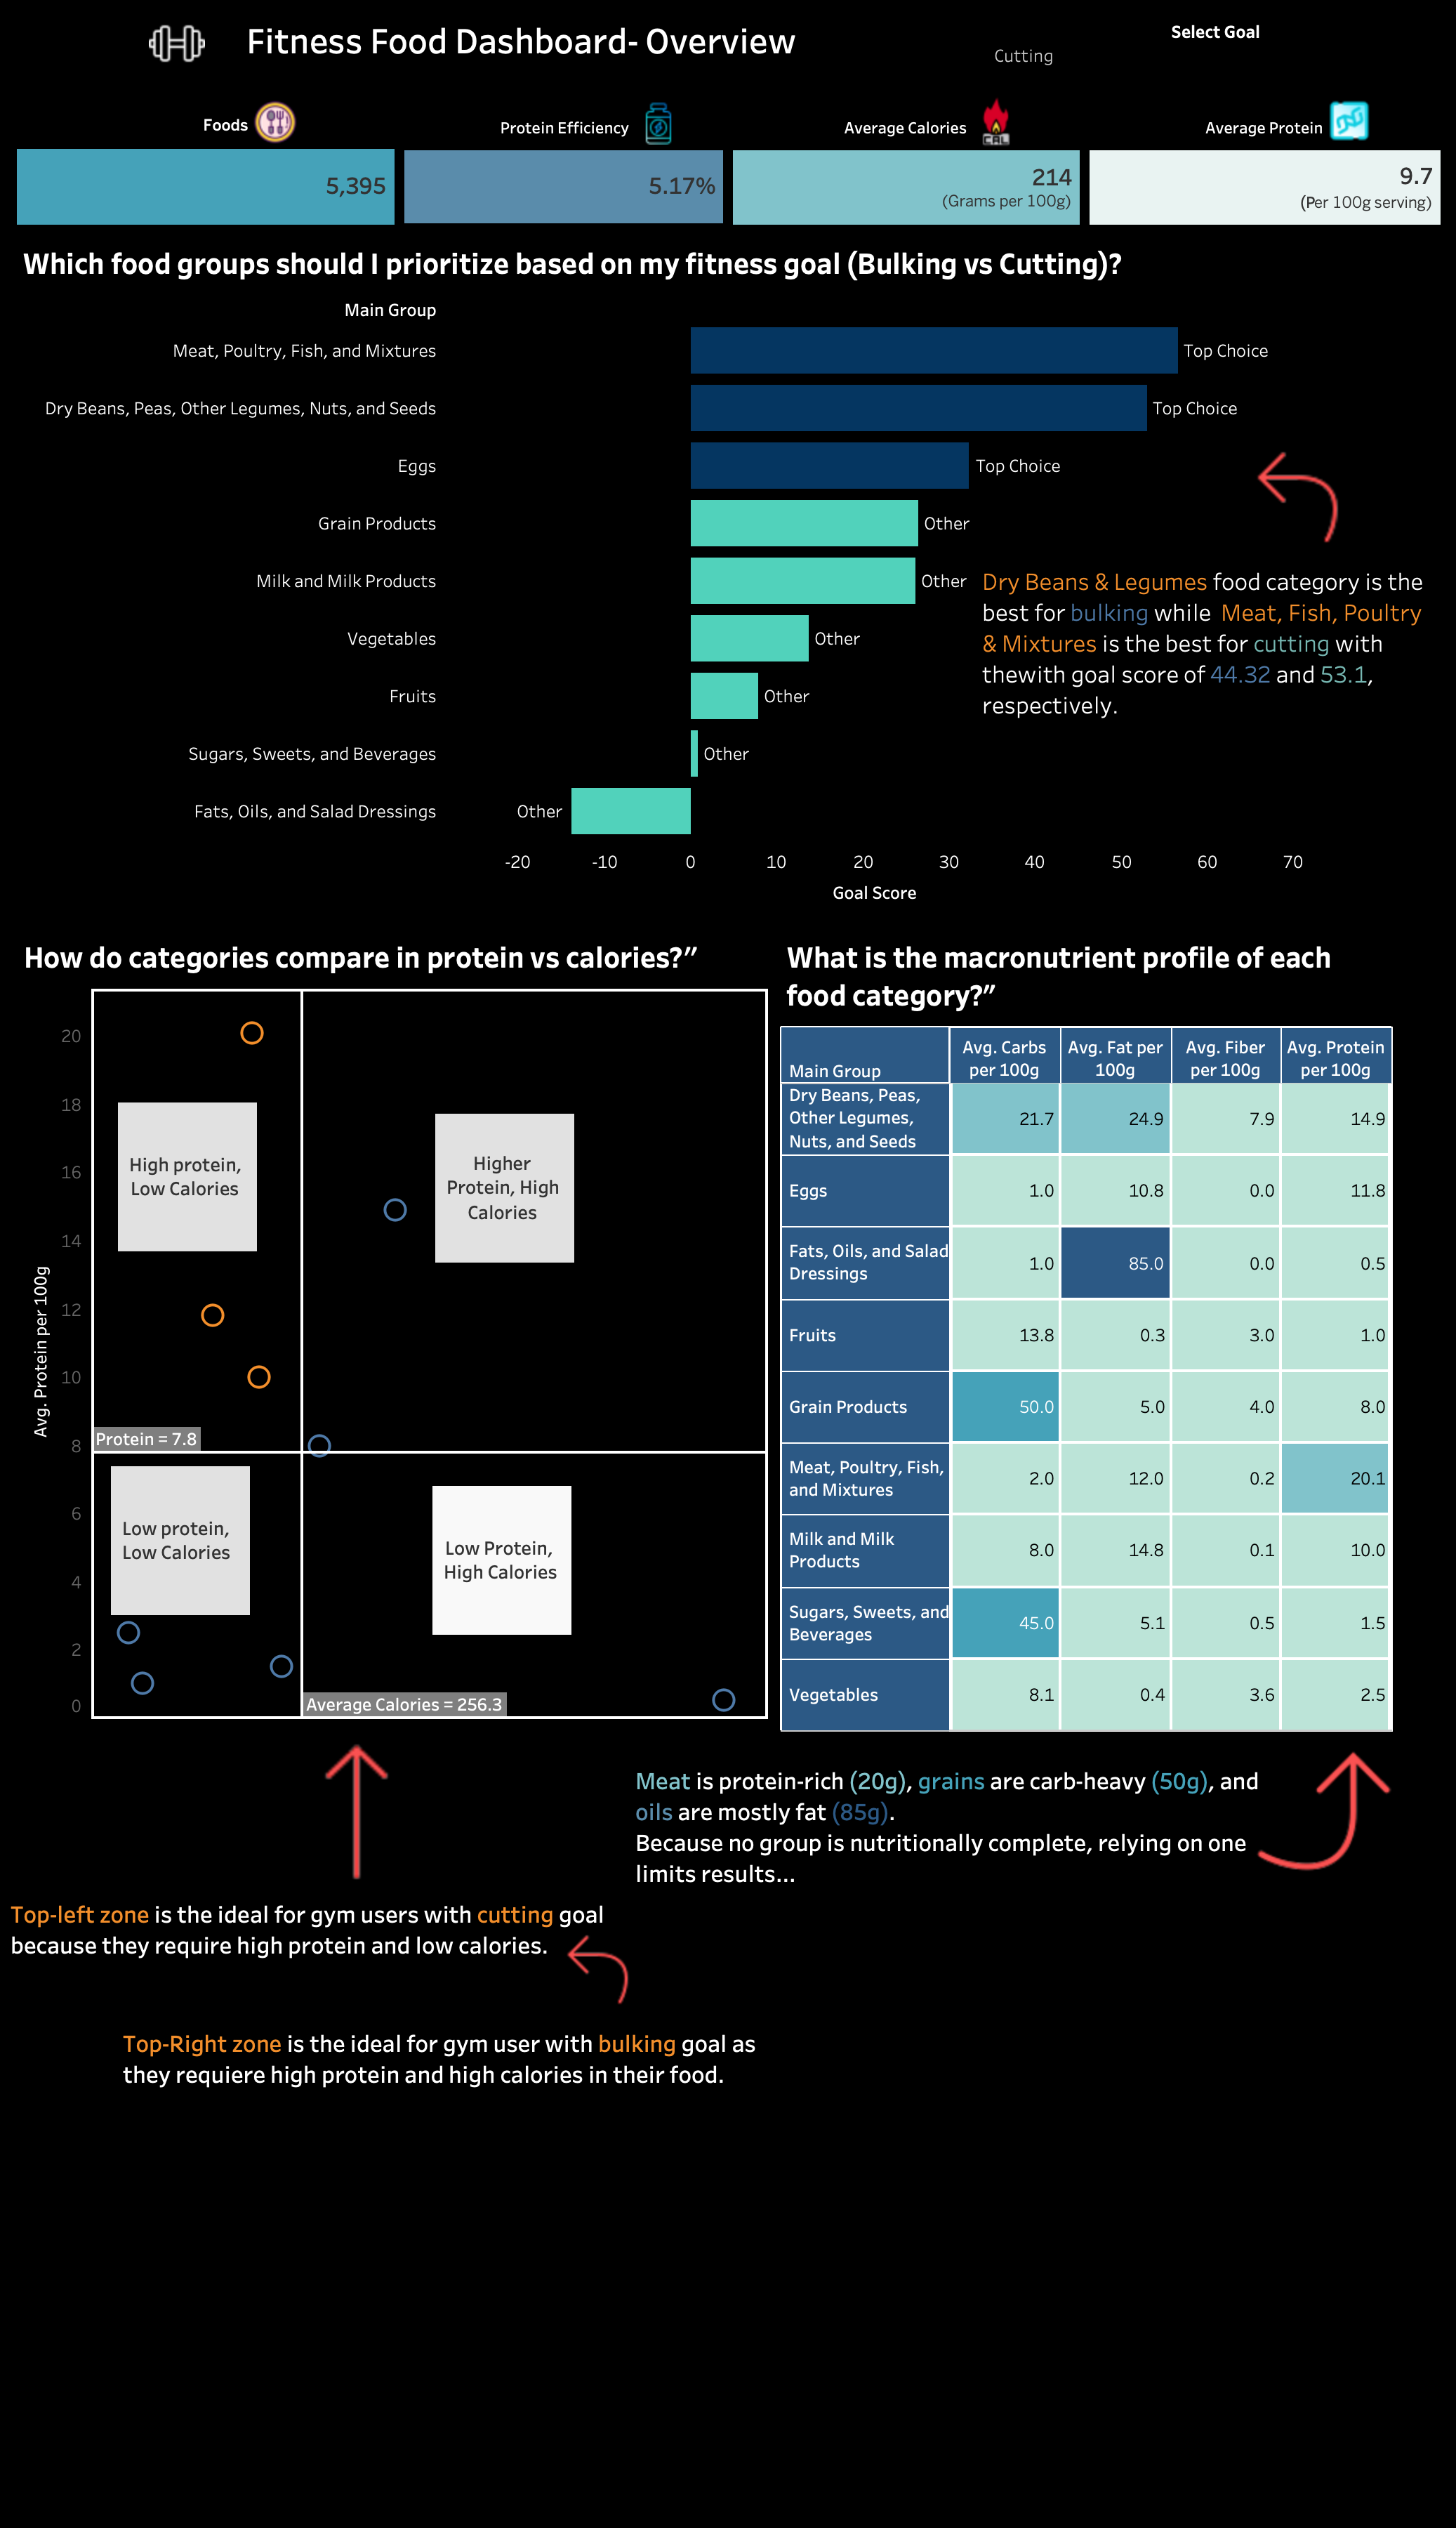

This screenshot's page, from the dashboard's own definition file:
{"tool":"tableau","page":{"name":"Overview","canvas":[1037,1800],"ordinal":1},"visuals":[{"type":"text","box":[173,2.2,456,53.2]},{"type":"blank","box":[9,3,1006,63]},{"type":"text","box":[8,8,1021,64.8]},{"type":"image","param":"/Users/ansh/Downloads/icons8-fitness-50 (1).png","box":[85,11,83,40]},{"type":"parameter","param":"[Parameters].[Parameter 1]","box":[706,13,320,51]},{"type":"image","param":"/Users/ansh/Downloads/icons8-calories-64.png","box":[690,62,39,47]},{"type":"image","param":"/Users/ansh/Downloads/icons8-calories-64 (1).png","box":[180,63,32,49]},{"type":"image","param":"/Users/ansh/Downloads/icons8-protein-48.png","box":[943,68,36,37]},{"type":"image","param":"/Users/ansh/Downloads/icons8-protein-64.png","box":[454,72,30,32]},{"type":"worksheet","title":"KPI – Total Foods","mark":"Automatic","box":[8,72.8,276,90]},{"type":"worksheet","title":"KPI - Protein Efficiency","mark":"Automatic","box":[284,72.8,234,90]},{"type":"worksheet","title":"KPI – Avg Calories ","mark":"Automatic","box":[518,72.8,254,90]},{"type":"worksheet","title":"KPI - Protein","mark":"Automatic","box":[772,72.8,257,90]},{"type":"worksheet","title":"Overview-Chart1","mark":"Automatic","rows":["MainGroup"],"cols":["Calculation_4735183199731286022"],"box":[8,162.8,1021,485]},{"type":"image","param":"/Users/ansh/Downloads/icons8-curved-arrow-50.png","box":[889,318,74,179]},{"type":"text","box":[697,347,321,226]},{"type":"worksheet","title":"Overview-Chart2","mark":"Automatic","rows":["Calculation_4735183199730241536"],"cols":["Calculation_4735183199730356225"],"box":[8,656.8,543,581]},{"type":"worksheet","title":"Overview-Chart3","mark":"Square","rows":["MainGroup"],"box":[551,656.8,446,581]},{"type":"image","param":"/Users/ansh/Downloads/icons8-curved-arrow-100.png","box":[890,1237,109,109]},{"type":"image","param":"/Users/ansh/Downloads/Icons8/icons8-arrow-50-2.png","box":[205,1241,105,99]},{"type":"text","box":[450,1251,472,100]},{"type":"text","box":[5,1343,471,61]},{"type":"image","param":"/Users/ansh/Downloads/icons8-curved-arrow-50.png","box":[399,1345,56,117]},{"type":"text","box":[85,1430,477,71]}]}

Visuals, with their boxes in screenshot pixels (x1, y1, x2, y2), scaled from the page's 1037x1800 canvas onto the 1456x2528 screenshot:
text: 243:3:883:78
blank: 13:4:1425:93
text: 11:11:1445:103
image: 119:15:236:72
parameter: 991:18:1441:90
image: 969:87:1024:153
image: 253:88:298:157
image: 1324:96:1375:147
image: 637:101:680:146
"KPI – Total Foods" worksheet: 11:103:399:229
"KPI - Protein Efficiency" worksheet: 399:103:727:229
"KPI – Avg Calories " worksheet: 727:103:1084:229
"KPI - Protein" worksheet: 1084:103:1445:229
"Overview-Chart1" worksheet: 11:229:1445:910
image: 1248:447:1352:698
text: 979:487:1429:805
"Overview-Chart2" worksheet: 11:923:774:1739
"Overview-Chart3" worksheet (Square marks): 774:923:1400:1739
image: 1250:1737:1403:1890
image: 288:1743:435:1882
text: 632:1757:1295:1897
text: 7:1886:668:1972
image: 560:1889:639:2053
text: 119:2008:789:2108
